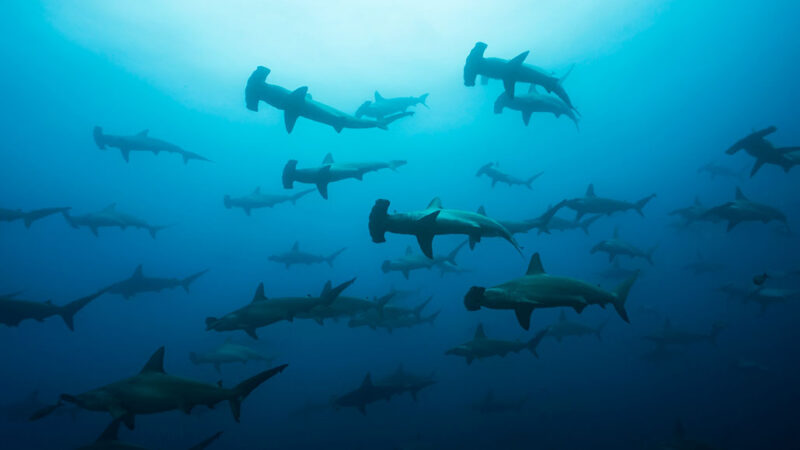shark: (62, 354, 294, 429), (462, 247, 638, 335), (359, 192, 570, 262), (248, 67, 390, 144), (459, 38, 614, 102), (1, 273, 106, 341), (277, 149, 408, 202), (202, 288, 332, 340), (668, 196, 798, 248), (712, 116, 800, 185), (490, 80, 589, 131), (343, 363, 442, 414), (98, 129, 218, 170), (632, 311, 736, 358), (203, 176, 303, 221), (71, 206, 185, 243), (353, 81, 439, 127), (706, 281, 800, 321), (556, 189, 663, 223), (262, 236, 352, 275), (106, 269, 211, 302), (1, 186, 66, 237), (470, 379, 547, 418), (353, 307, 445, 333), (467, 160, 549, 189)
